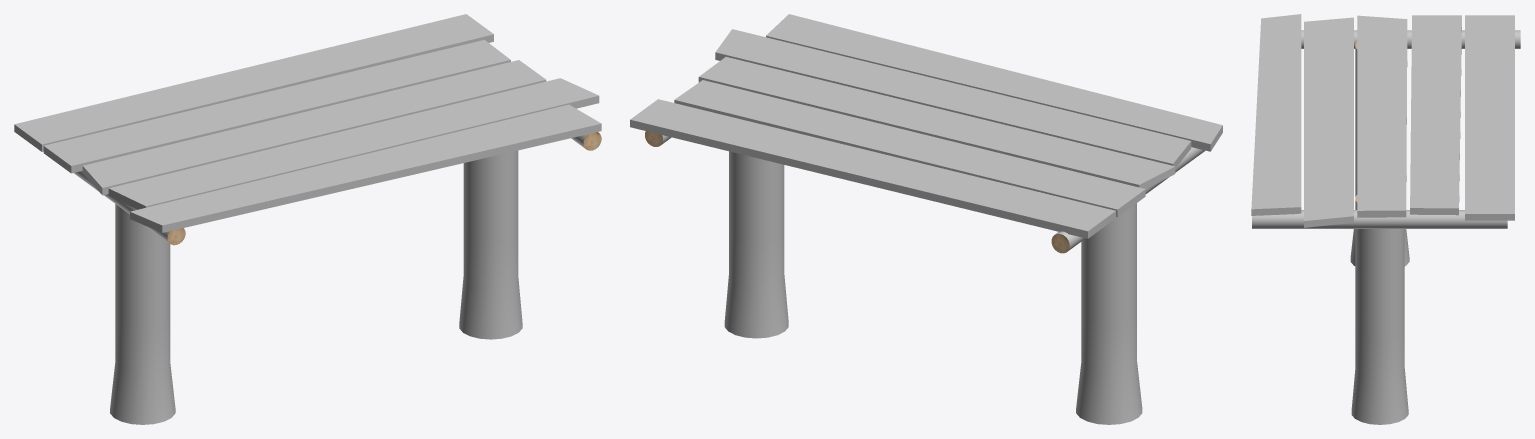
Rendered from TrainingForestTable01.FBX.
3 views of the same model, side by side, from view 1: azimuth 30°, elevation 25°; view 2: azimuth 150°, elevation 25°; view 3: azimuth 270°, elevation 25° (orthographic). The views are drawn at different scales.
Visible parts, largest first — view 1: Cylinder001; view 2: Cylinder001; view 3: Cylinder001.
Boxes of the visible parts, x1=… form: Cylinder001: x1=14, y1=14, x2=601, y2=424; Cylinder001: x1=630, y1=14, x2=1222, y2=424; Cylinder001: x1=1251, y1=14, x2=1520, y2=424.
Bounding box in the file's own units: 82.42 × 40.97 × 45.27.
